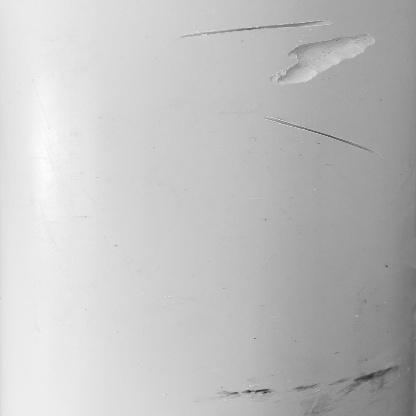sunshang: (263, 30, 382, 89), (255, 111, 384, 158), (169, 18, 342, 34)
